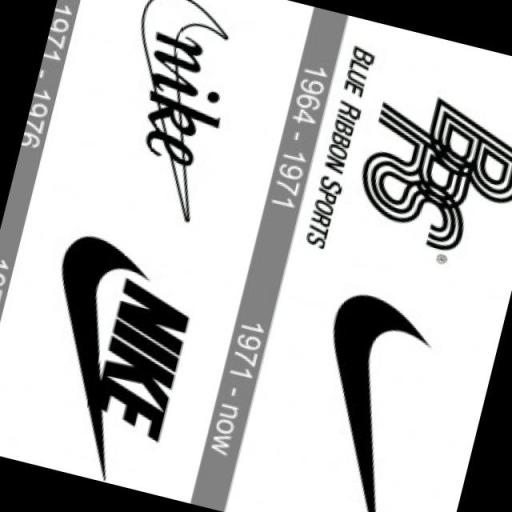Nike: (280, 286, 437, 512), (85, 277, 198, 444)
